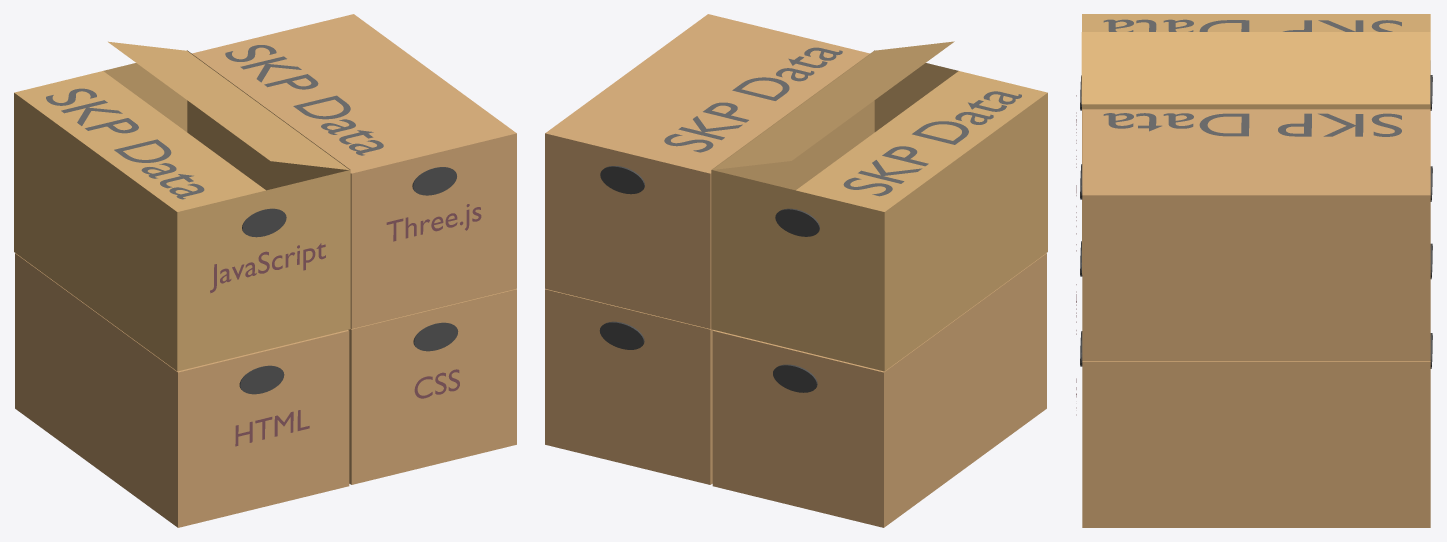
Rendered from Cardboxes.gltf.
The picture shows the model from 3 angles, left to right: view 1: azimuth 30°, elevation 25°; view 2: azimuth 150°, elevation 25°; view 3: azimuth 270°, elevation 25°; orthographic projection. The views are drawn at different scales.
Parts seen in each view (by area): view 1: Cube, Cube.002, Cube.001, Cube.003, Text, Text.001, Cylinder.005, Text.004, Cylinder.007, Cylinder.004, Cylinder, Text.005 (+1 smaller); view 2: Cube, Cube.002, Cube.001, Cube.003, Text, Text.001, Cylinder.006, Cylinder.008, Cylinder.003, Cylinder.002; view 3: Cube.001, Cube.003, Cube, Text.001, Text.
Part boxes in pixels (<box>): Cube: <box>14,41,350,371</box>; Cube.002: <box>15,253,349,527</box>; Cube.001: <box>192,14,516,328</box>; Cube.003: <box>348,289,516,484</box>; Text: <box>46,88,204,199</box>; Text.001: <box>225,45,383,155</box>; Cylinder.005: <box>239,365,284,394</box>; Text.004: <box>210,243,325,293</box>; Cylinder.007: <box>413,322,458,351</box>; Cylinder.004: <box>412,167,456,195</box>; Cylinder: <box>242,208,286,237</box>; Text.005: <box>386,204,481,241</box>; Cube: <box>711,41,1047,371</box>; Cube.002: <box>712,253,1046,527</box>; Cube.001: <box>545,14,869,328</box>; Cube.003: <box>545,289,713,484</box>; Text: <box>843,91,1021,196</box>; Text.001: <box>664,47,842,152</box>; Cylinder.006: <box>773,364,817,392</box>; Cylinder.008: <box>599,321,644,349</box>; Cylinder.003: <box>600,166,644,194</box>; Cylinder.002: <box>775,208,819,236</box>; Cube.001: <box>1082,109,1430,361</box>; Cube.003: <box>1082,361,1430,527</box>; Cube: <box>1081,14,1430,274</box>; Text.001: <box>1103,113,1401,136</box>; Text: <box>1103,19,1401,31</box>.
Bounding box in the file's own units: 0.5063 × 0.4908 × 0.4312.
